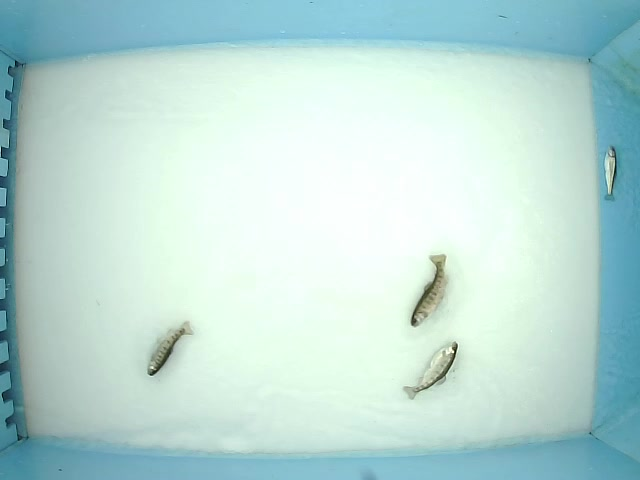fish: (401, 340, 459, 400), (410, 253, 448, 329), (146, 320, 194, 377), (601, 143, 617, 203)
